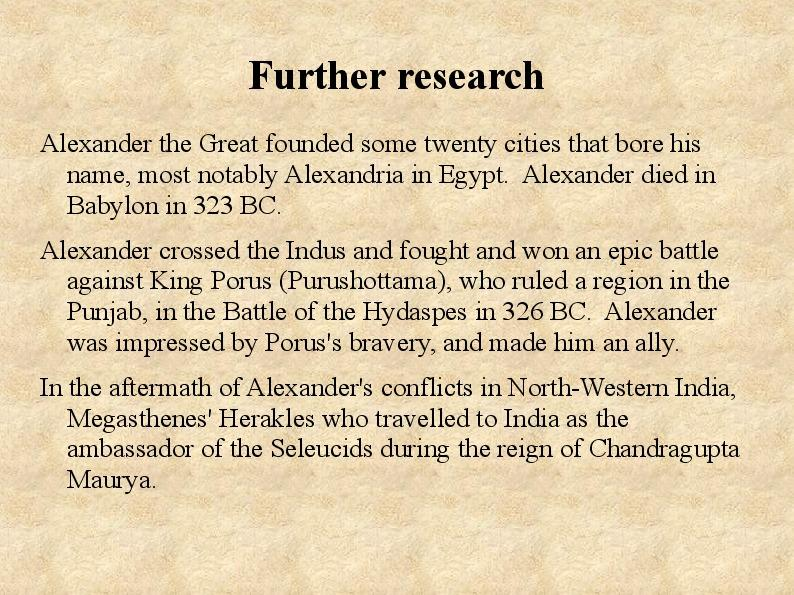paragraph: (29, 122, 760, 531)
title: (242, 49, 559, 106)
